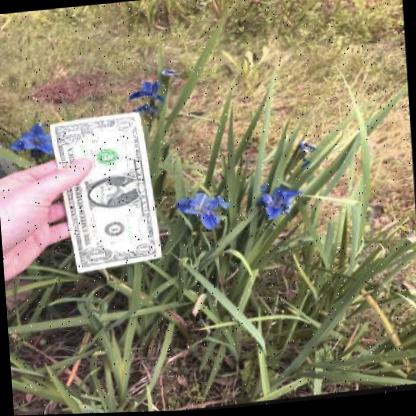dollar_front: (50, 112, 164, 274)
